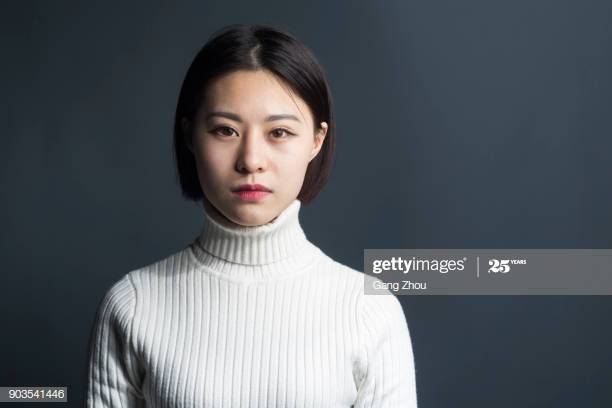bare: (190, 143, 307, 225)
